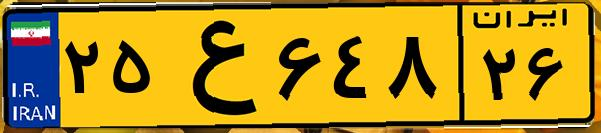2: (57, 26, 110, 100), (475, 38, 525, 113)
4: (330, 28, 385, 110)
5: (110, 28, 158, 98)
6: (270, 28, 330, 110), (525, 38, 570, 115)
8: (385, 28, 445, 110)
ع: (158, 12, 270, 120)
